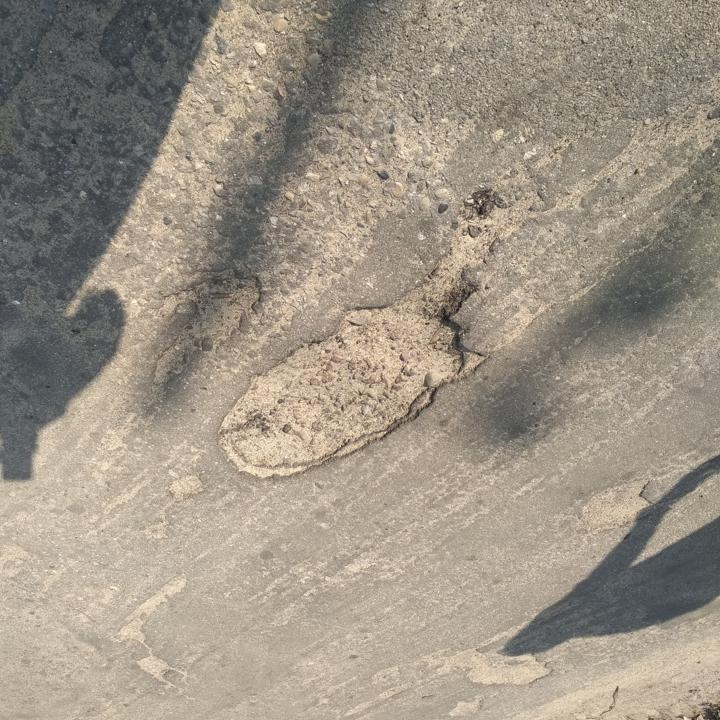pothole: (216, 227, 508, 484), (145, 270, 265, 392), (112, 574, 201, 688), (570, 477, 661, 537), (451, 639, 552, 688), (166, 473, 208, 503), (446, 694, 483, 719)
